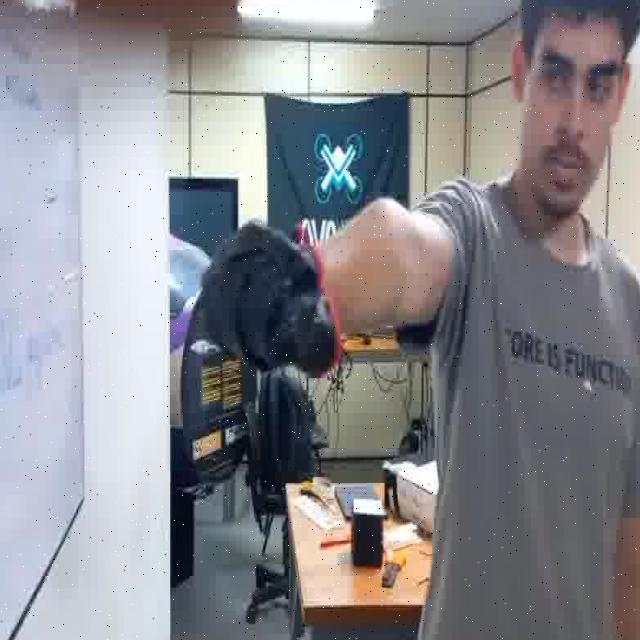Gloves: (203, 218, 339, 381)
